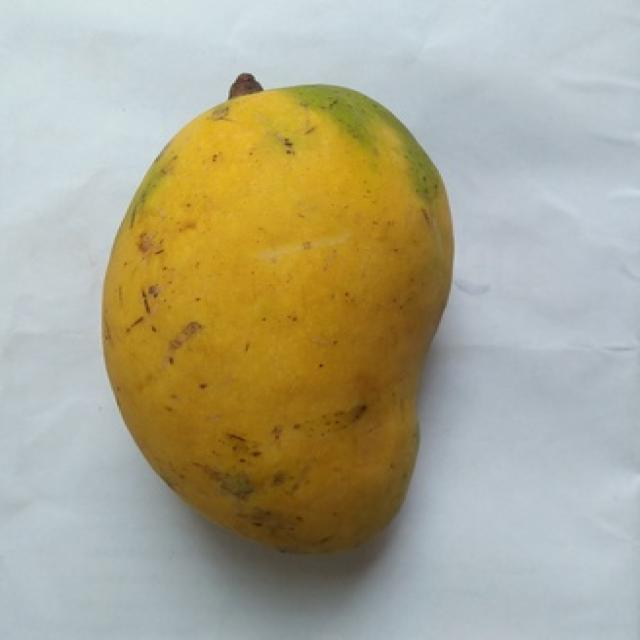Mango: (103, 86, 451, 551)
